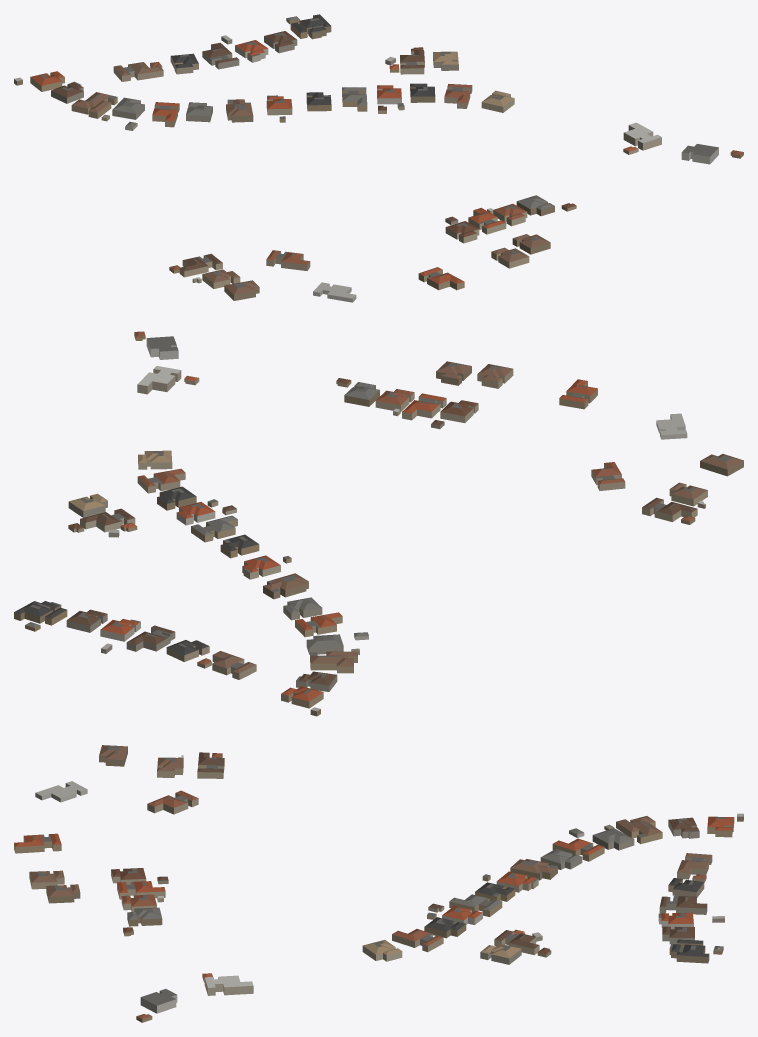
3 views of the same model, one above another, from view 1: azimuth 30°, elevation 25°; view 2: azimuth 150°, elevation 25°; view 3: azimuth 270°, elevation 25° (orthographic). The views are drawn at different scales.
Parts seen in each view (by area): view 1: buildings_r6_c3_lod1; view 2: buildings_r6_c3_lod1; view 3: buildings_r6_c3_lod1.
Boxes of the visible parts, <box> form: buildings_r6_c3_lod1: <box>14,14,743,302</box>; buildings_r6_c3_lod1: <box>14,331,743,716</box>; buildings_r6_c3_lod1: <box>14,745,743,1022</box>.
Size of the model in its own units: 603 by 37.26 by 668.
